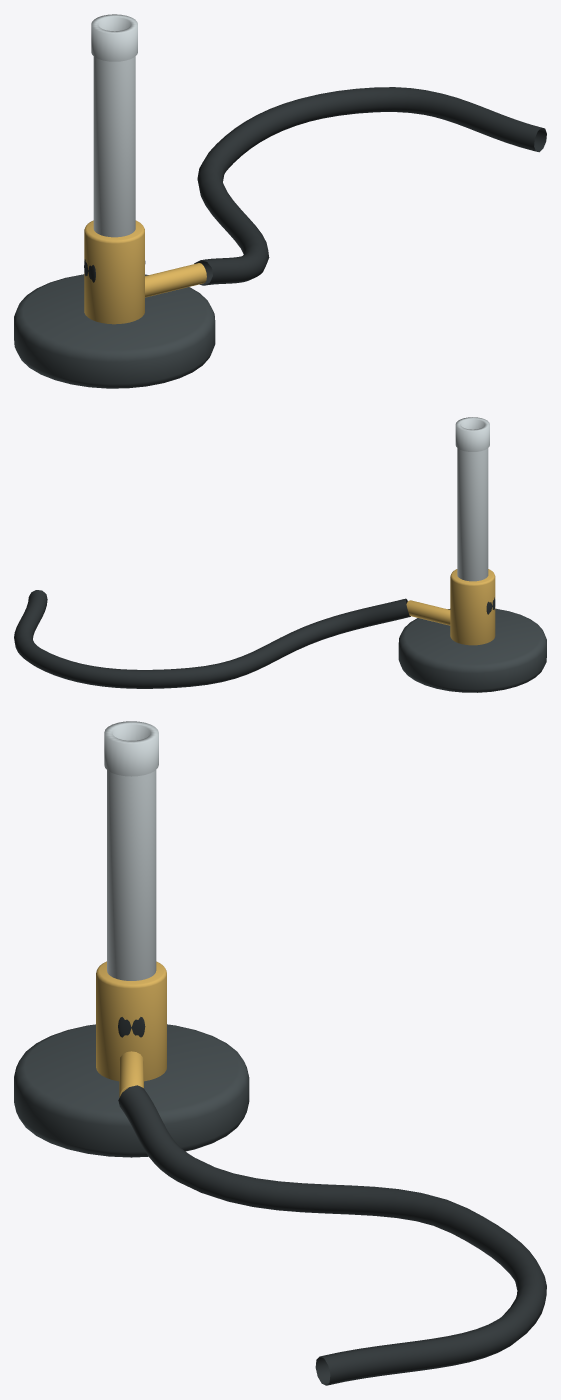
Rendered from bunsen-burner.glb.
3 views of the same model, one above another, from view 1: azimuth 30°, elevation 25°; view 2: azimuth 150°, elevation 25°; view 3: azimuth 270°, elevation 25° (orthographic). The views are drawn at different scales.
Parts seen in each view (by area): view 1: Weighted burner base.001, Disconnected rubber hose.001, Burner barrel.001, Brass mixing body.001, Open burner nozzle.001, Gas hose barb.001; view 2: Disconnected rubber hose.001, Weighted burner base.001, Burner barrel.001, Brass mixing body.001, Open burner nozzle.001, Gas hose barb.001; view 3: Disconnected rubber hose.001, Weighted burner base.001, Burner barrel.001, Brass mixing body.001, Open burner nozzle.001, Gas hose barb.001.
Part boxes in pixels (bbox=[...]): Weighted burner base.001: bbox=[14, 274, 215, 388]; Disconnected rubber hose.001: bbox=[194, 87, 546, 285]; Burner barrel.001: bbox=[93, 56, 135, 237]; Brass mixing body.001: bbox=[84, 220, 144, 324]; Open burner nozzle.001: bbox=[91, 14, 137, 61]; Gas hose barb.001: bbox=[145, 263, 206, 297]; Disconnected rubber hose.001: bbox=[14, 590, 410, 688]; Weighted burner base.001: bbox=[398, 608, 546, 692]; Burner barrel.001: bbox=[457, 448, 488, 581]; Brass mixing body.001: bbox=[450, 569, 495, 645]; Open burner nozzle.001: bbox=[455, 417, 489, 451]; Gas hose barb.001: bbox=[406, 600, 450, 625]; Disconnected rubber hose.001: bbox=[118, 1085, 546, 1385]; Weighted burner base.001: bbox=[14, 1024, 249, 1157]; Burner barrel.001: bbox=[107, 770, 156, 980]; Brass mixing body.001: bbox=[96, 961, 166, 1081]; Open burner nozzle.001: bbox=[104, 721, 158, 776]; Gas hose barb.001: bbox=[119, 1051, 143, 1097].
Size of the model in its own units: 0.2977 by 0.153 by 0.1949.
